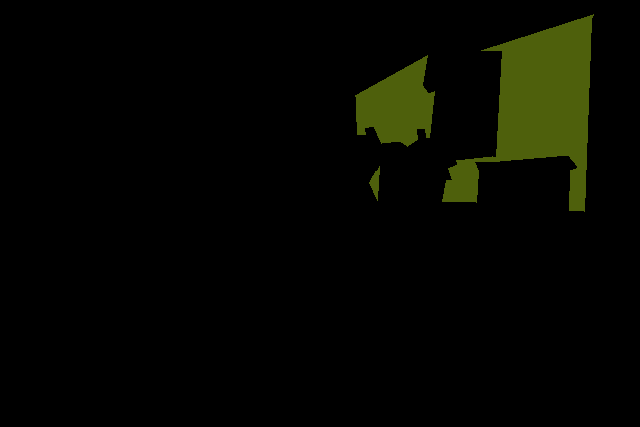Train: (355, 14, 594, 211)
